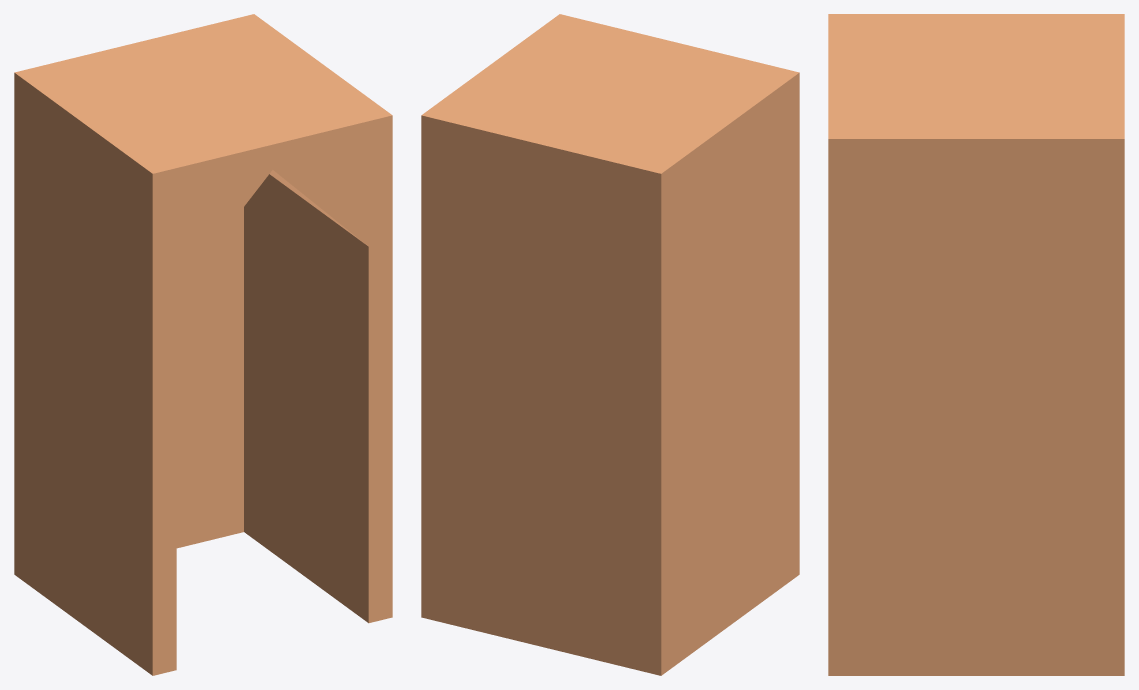
The model's file is Door_002.fbx.
The picture shows the model from 3 angles, left to right: view 1: azimuth 30°, elevation 25°; view 2: azimuth 150°, elevation 25°; view 3: azimuth 270°, elevation 25°; orthographic projection. The views are drawn at different scales.
Visible parts, largest first — view 1: Door.002; view 2: Door.002; view 3: Door.002.
Boxes of the visible parts, x1,y1,x2,y2 form: Door.002: (14,14,392,675); Door.002: (421,14,799,675); Door.002: (828,14,1124,675).
Size of the model in its own units: 100 by 200 by 100.
